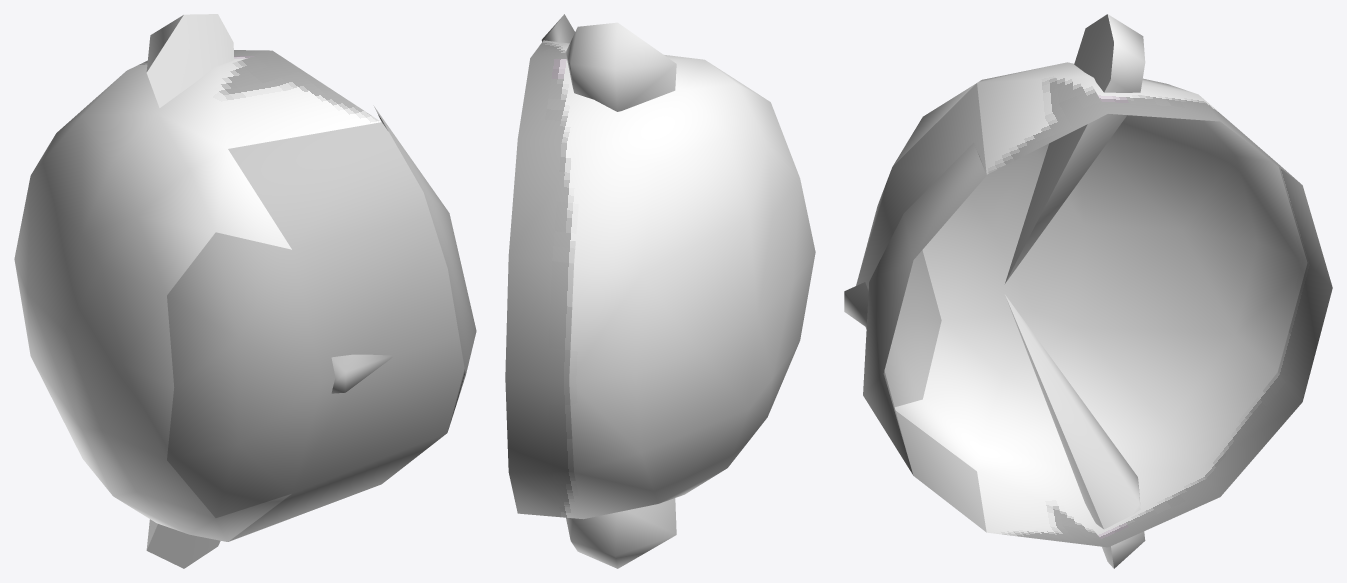
The model's file is girl05b.dae.
3 views of the same model, side by side, from view 1: azimuth 30°, elevation 25°; view 2: azimuth 150°, elevation 25°; view 3: azimuth 270°, elevation 25° (orthographic).
Visible parts, largest first — view 1: vsn_mesh_1_, vsn_mesh_0_, vsn_mesh_2_; view 2: vsn_mesh_1_; view 3: vsn_mesh_1_, vsn_mesh_0_, vsn_mesh_2_.
Boxes of the visible parts, box(x1,y1,x2,y2) form: vsn_mesh_1_: box(14, 14, 476, 568); vsn_mesh_0_: box(228, 122, 464, 541); vsn_mesh_2_: box(167, 232, 321, 517); vsn_mesh_1_: box(505, 14, 815, 568); vsn_mesh_1_: box(863, 14, 1332, 568); vsn_mesh_0_: box(844, 83, 986, 532); vsn_mesh_2_: box(856, 170, 941, 406).
Size of the model in its own units: 15.6 by 26.71 by 21.59.
3 materials, 1 textured.
